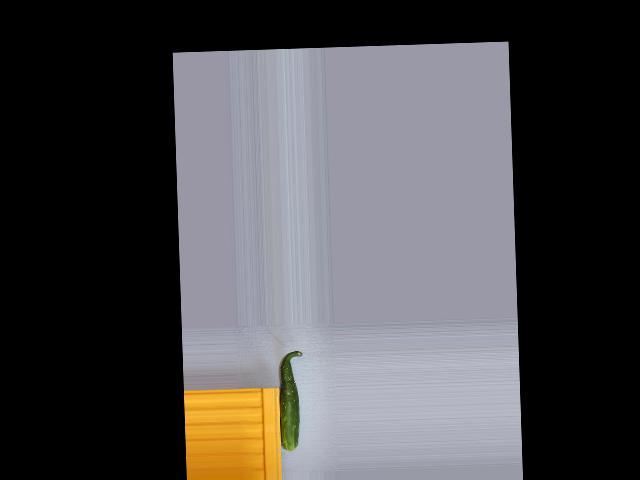cucumber: (277, 350, 305, 450)
